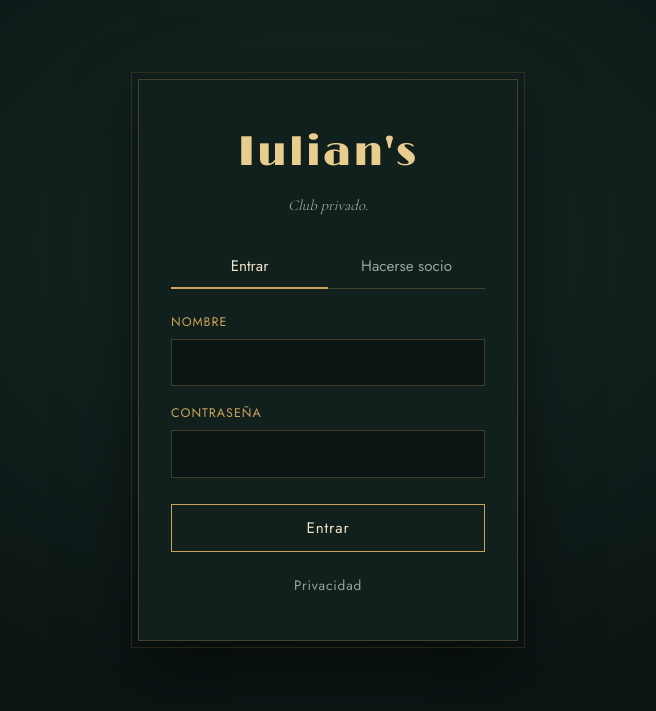
AccessView › alta buena y login fallido: pasa a Entrar con el nombre puesto, no a repetir el alta
This screenshot has width=656, height=711.
Click the button "Hacerse socio": (406, 267) 328,245 -> 485,289
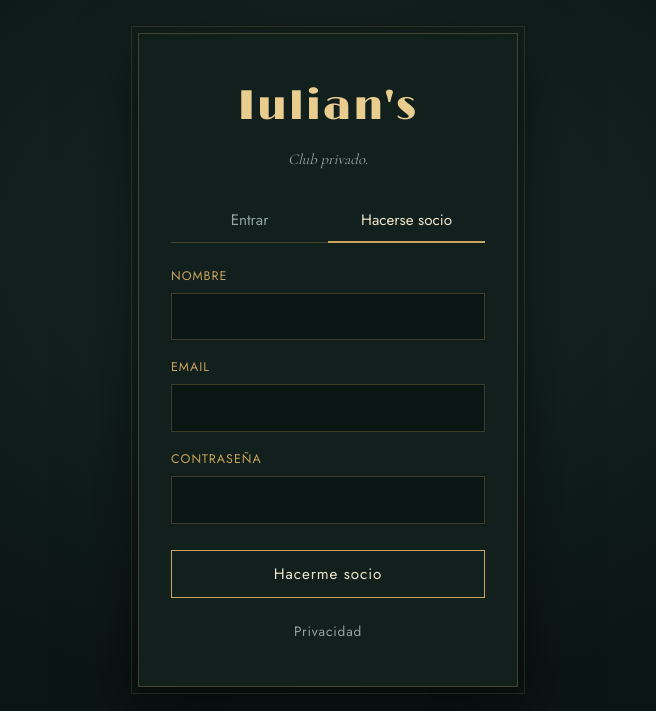
In the field named "username": (328, 317) 171,293 -> 485,340, type "dwight"
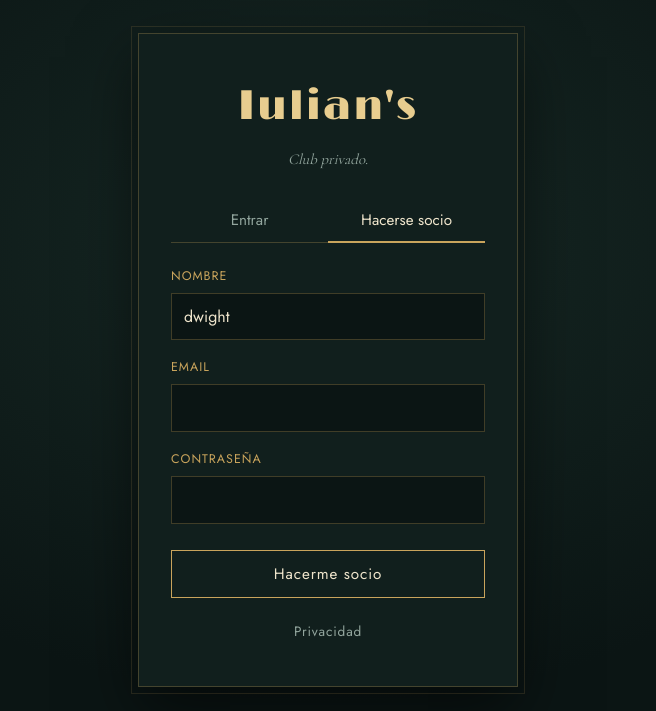
In the field named "email": (328, 408) 171,384 -> 485,432, type "d@lounge.com"
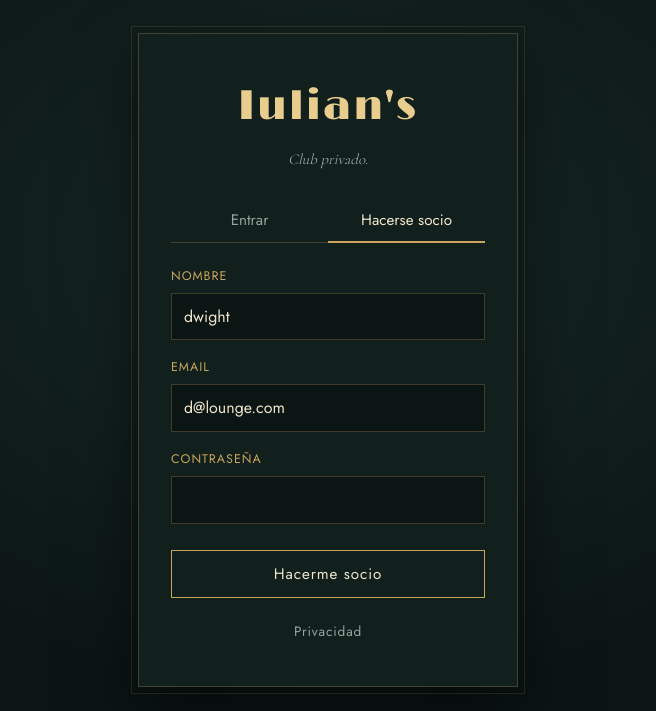
In the password field named "password": (328, 500) 171,476 -> 485,524, type "12345678"
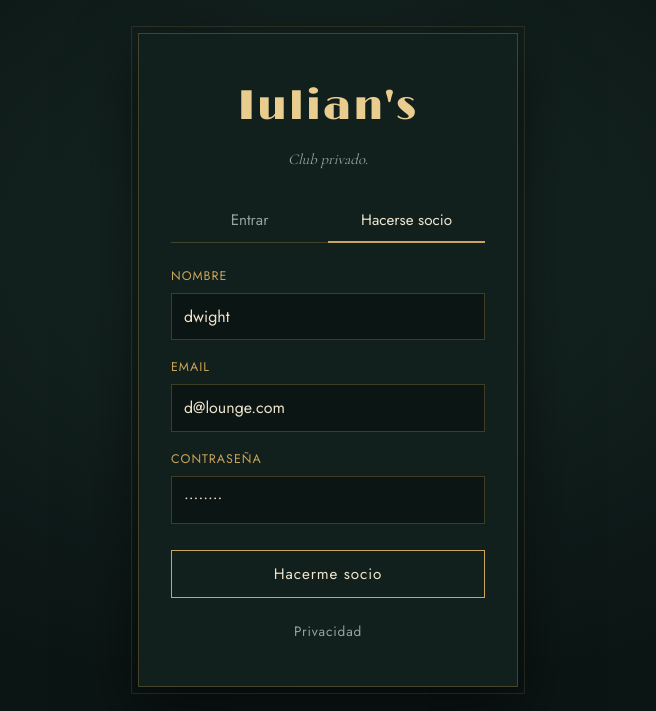
Submit the form, box 171,267 -> 485,598
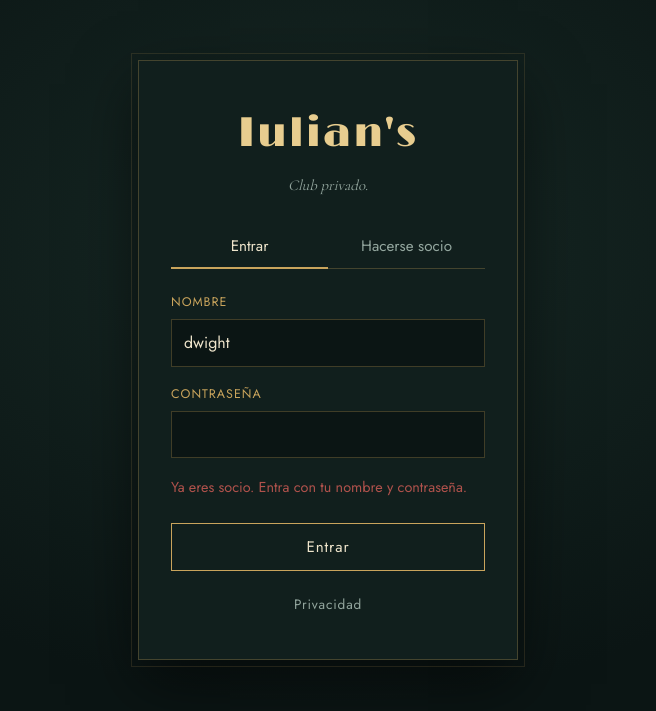
Expected: the password field named "password" is empty, 171,411 -> 485,458
Expected: the message "Ya eres socio. Entra con tu nombre y contraseña." is shown, 171,476 -> 485,499
